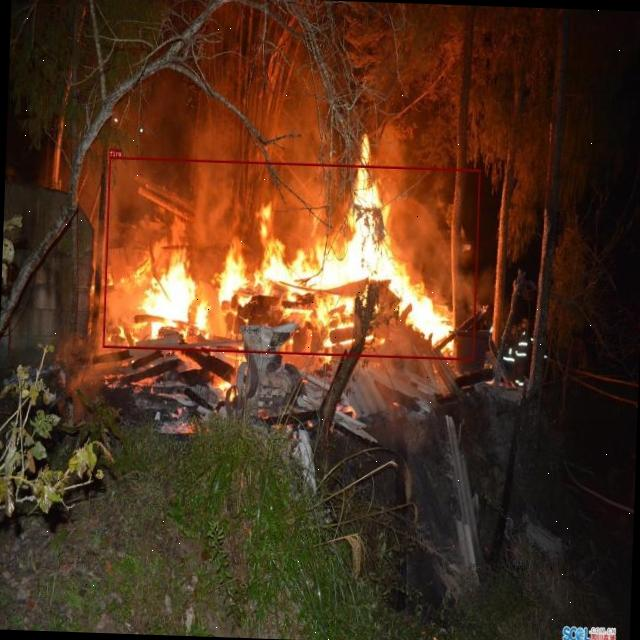fire: (103, 157, 480, 360)
